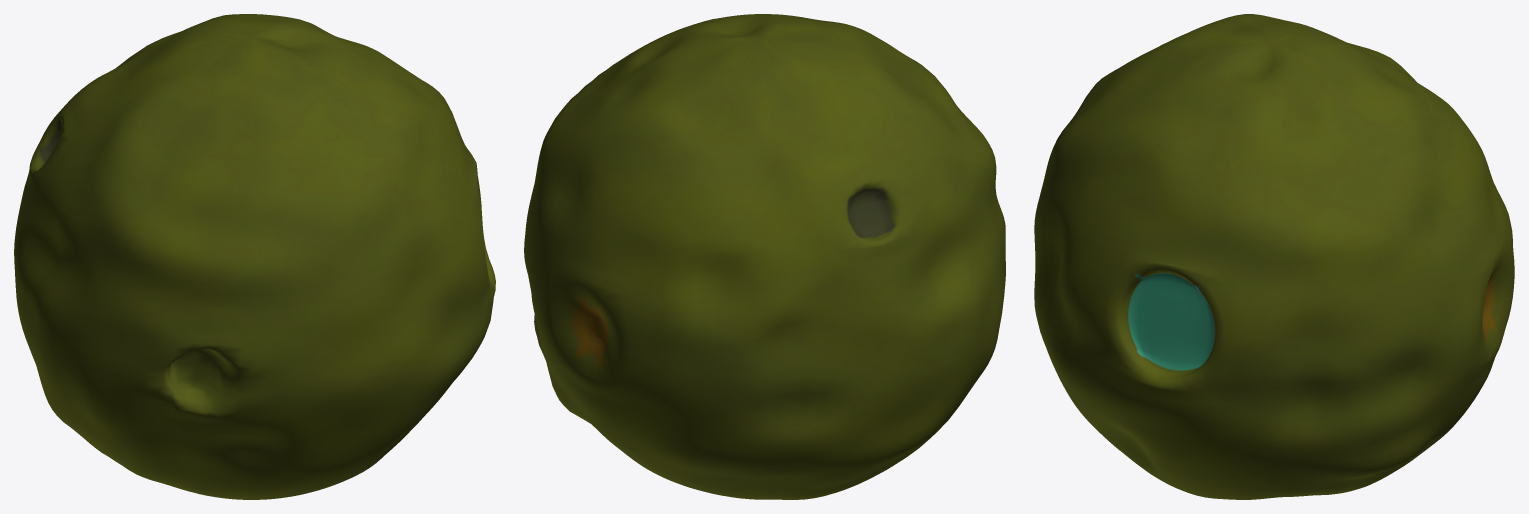
Rendered from dirtyPlanet.fbx.
The picture shows the model from 3 angles, left to right: view 1: azimuth 30°, elevation 25°; view 2: azimuth 150°, elevation 25°; view 3: azimuth 270°, elevation 25°; orthographic projection.
Visible parts, largest first — view 1: dirtyPlanet; view 2: dirtyPlanet; view 3: dirtyPlanet.
Part boxes in pixels (x1,y1,x2,y2): dirtyPlanet: (14, 14, 495, 499); dirtyPlanet: (524, 14, 1005, 499); dirtyPlanet: (1034, 14, 1514, 499).
Size of the model in its own units: 78.51 by 77.97 by 77.47.
